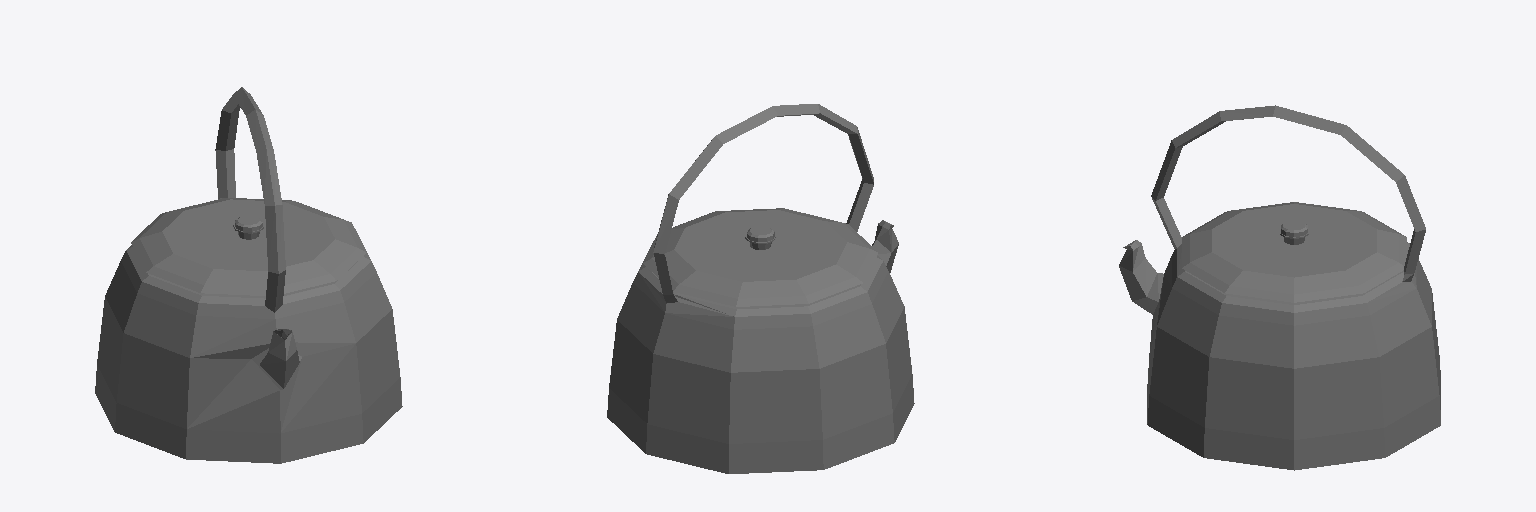
Rendered from teapot.obj.
3 renders of one model, left to right at view 1: azimuth 30°, elevation 25°; view 2: azimuth 150°, elevation 25°; view 3: azimuth 270°, elevation 25°, orthographic.
Visible parts, largest first — view 1: pCylinder246; view 2: pCylinder246; view 3: pCylinder246.
Part boxes in pixels (left/top/right/bottom): pCylinder246: left=95, top=87, right=402, bottom=463; pCylinder246: left=607, top=104, right=914, bottom=473; pCylinder246: left=1119, top=105, right=1440, bottom=470.
Size of the model in its own units: 40.45 by 43.07 by 42.25.